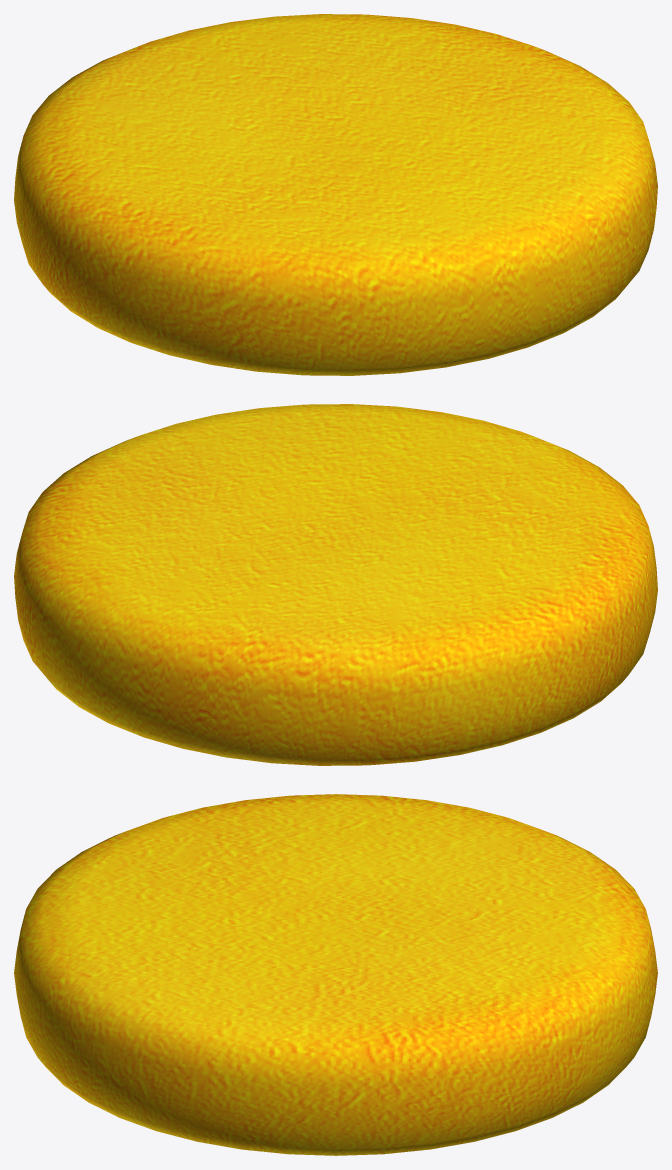
Rendered from cheesewheelwhole.fbx.
3 renders of one model, top to bottom at view 1: azimuth 30°, elevation 25°; view 2: azimuth 150°, elevation 25°; view 3: azimuth 270°, elevation 25°, orthographic.
Parts seen in each view (by area): view 1: CheeseWheel; view 2: CheeseWheel; view 3: CheeseWheel.
Boxes of the visible parts, x1,y1,x2,y2 form: CheeseWheel: [14, 14, 657, 375]; CheeseWheel: [14, 404, 657, 765]; CheeseWheel: [14, 794, 657, 1155].
Bounding box in the file's own units: 0.9869 × 0.2113 × 0.9869.
